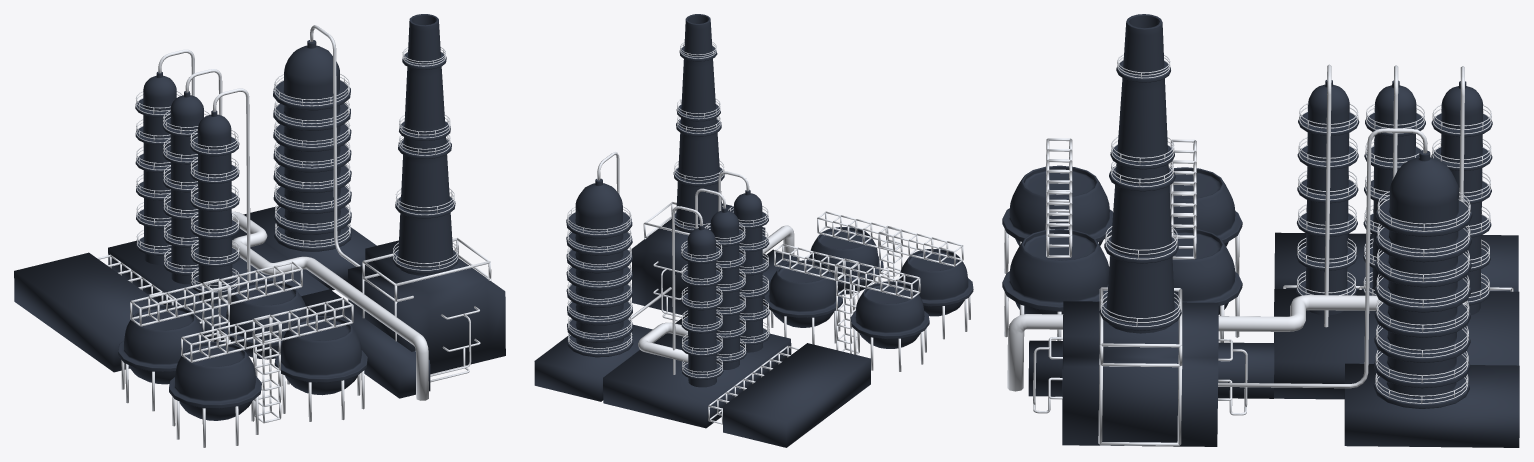
The model's file is AVT.gltf.
The picture shows the model from 3 angles, left to right: view 1: azimuth 30°, elevation 25°; view 2: azimuth 150°, elevation 25°; view 3: azimuth 270°, elevation 25°; orthographic projection. The views are drawn at different scales.
Parts seen in each view (by area): view 1: Line354; view 2: Line354; view 3: Line354.
Part boxes in pixels (<box>): Line354: <box>14,14,505,447</box>; Line354: <box>534,14,973,447</box>; Line354: <box>1002,14,1519,447</box>.
Bounding box in the file's own units: 176 × 171 × 194.
